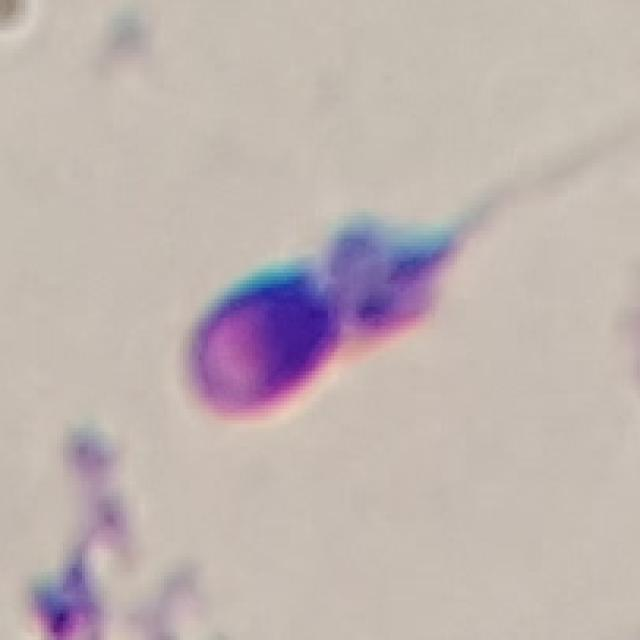abnormal sperm: (185, 166, 541, 422)
